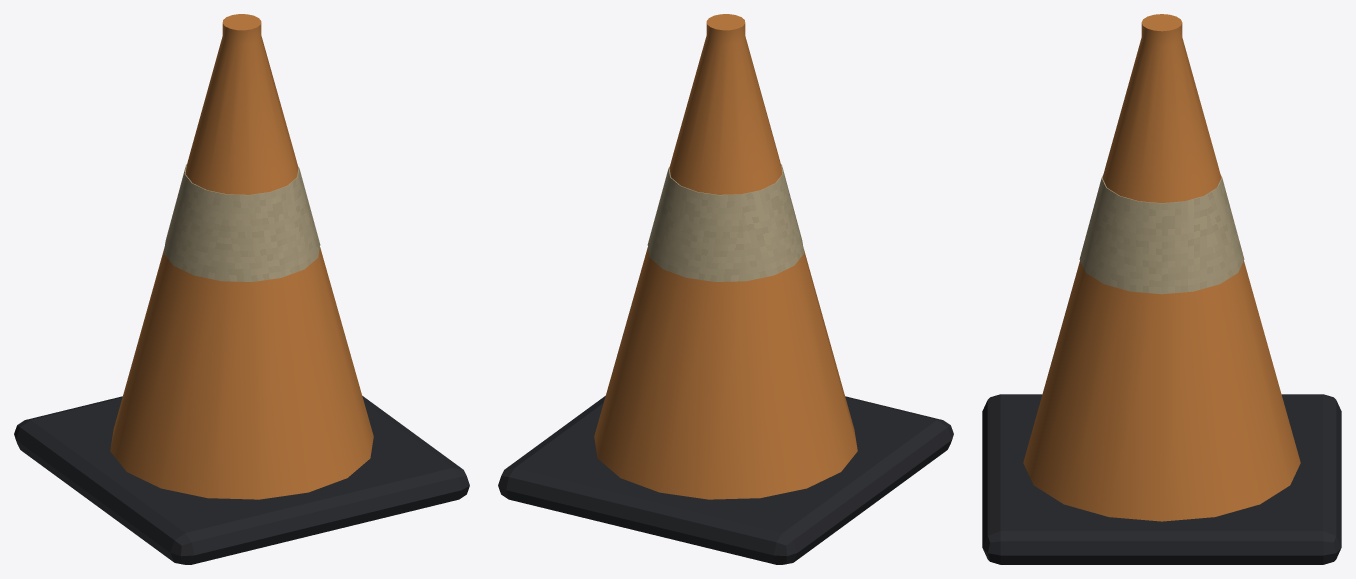
File: MS_SP_08_TrafficCone.glb
The picture shows the model from 3 angles, left to right: view 1: azimuth 30°, elevation 25°; view 2: azimuth 150°, elevation 25°; view 3: azimuth 270°, elevation 25°; orthographic projection. The views are drawn at different scales.
Visible parts, largest first — view 1: Cone, WeightedBase, ReflectiveBand; view 2: Cone, WeightedBase, ReflectiveBand; view 3: Cone, WeightedBase, ReflectiveBand.
Part boxes in pixels (x1,y1,x2,y2): Cone: (110,14,373,499); WeightedBase: (14,396,469,564); ReflectiveBand: (163,164,320,281); Cone: (594,14,857,499); WeightedBase: (498,396,953,564); ReflectiveBand: (647,164,804,281); Cone: (1023,14,1300,521); WeightedBase: (982,394,1341,564); ReflectiveBand: (1079,174,1244,294).
Size of the model in its own units: 0.44 by 0.64 by 0.44.
3 materials, 1 textured.
